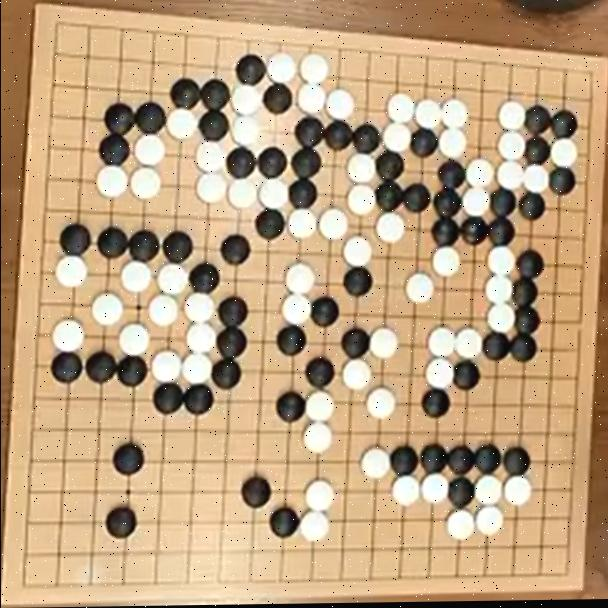corners: (2, 565, 50, 606), (37, 9, 87, 41), (574, 60, 606, 96), (548, 557, 578, 591)
